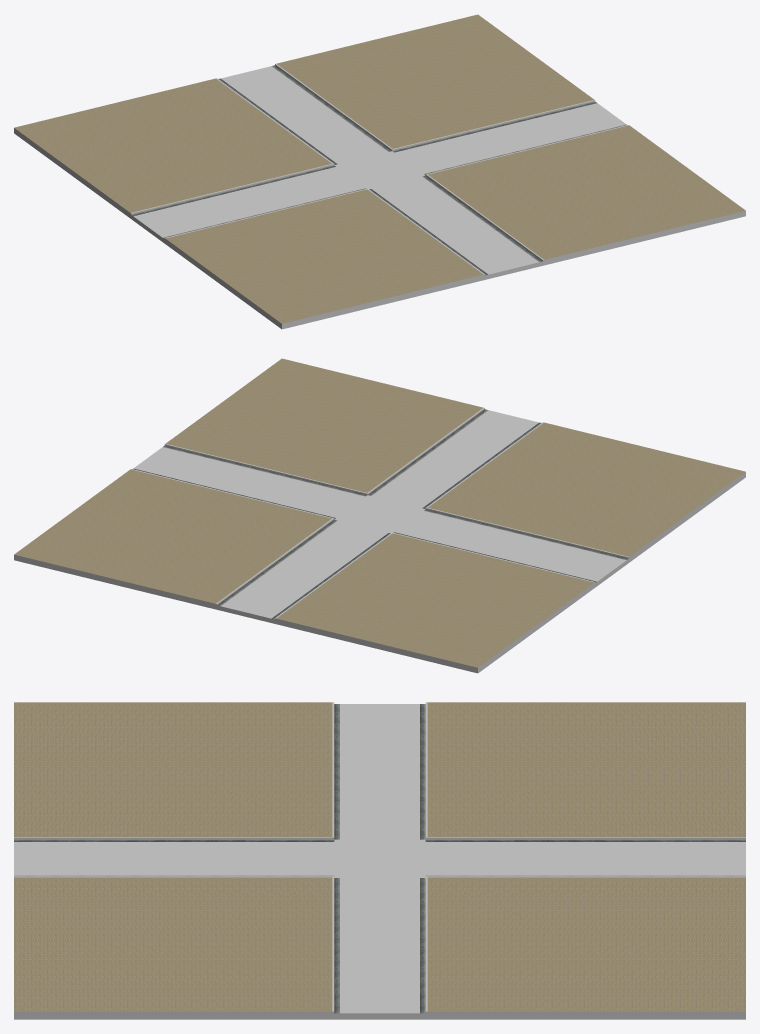
The model's file is road_crossing.dae.
3 views of the same model, one above another, from view 1: azimuth 30°, elevation 25°; view 2: azimuth 150°, elevation 25°; view 3: azimuth 270°, elevation 25° (orthographic). The views are drawn at different scales.
Visible parts, largest first — view 1: Mesh; view 2: Mesh; view 3: Mesh.
Part boxes in pixels (x1,y1,x2,y2): Mesh: (14, 14, 745, 329); Mesh: (14, 358, 745, 673); Mesh: (14, 702, 745, 1019).
Size of the model in its own units: 54.85 by 0.64 by 54.85.
